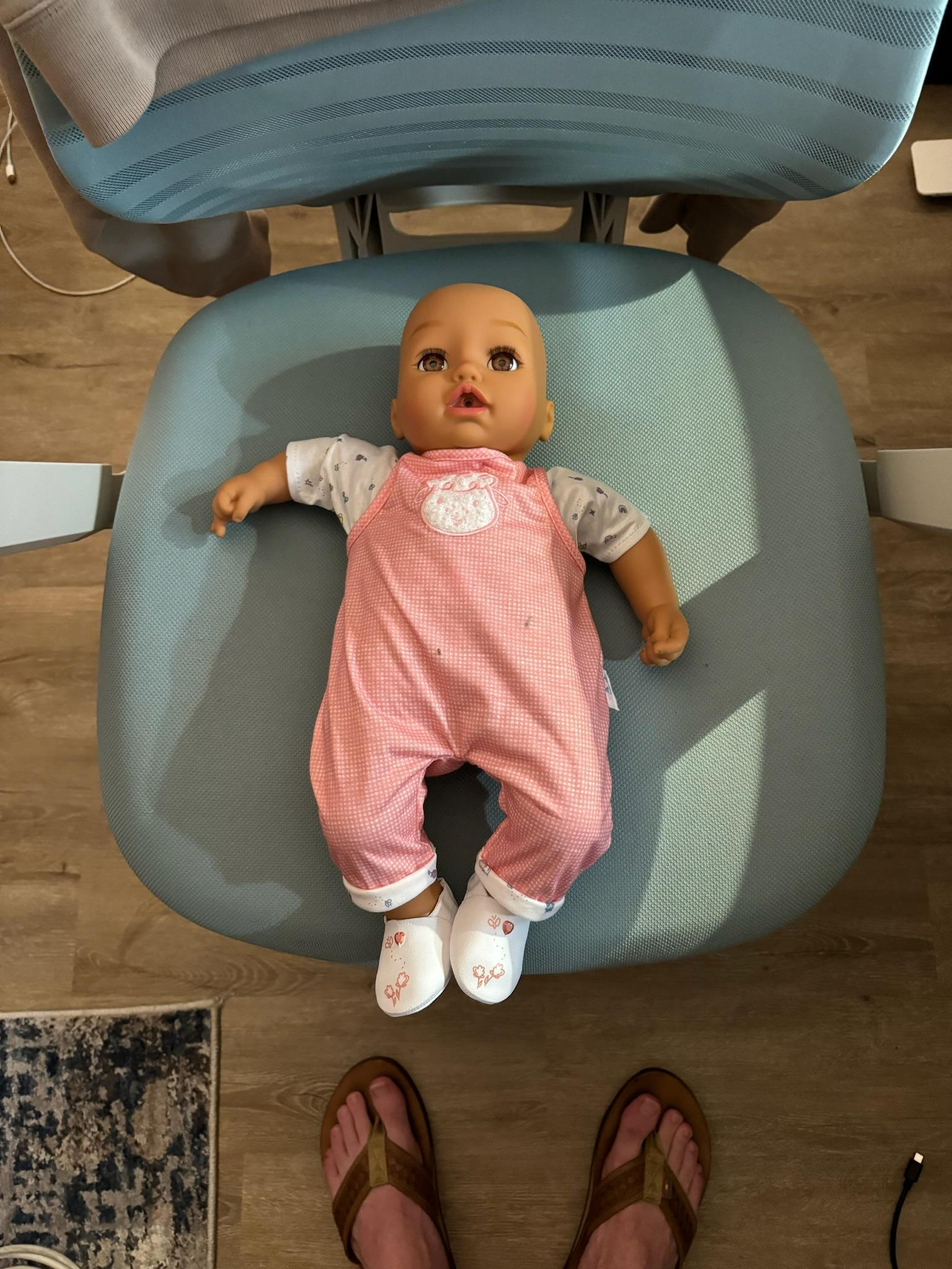baby: (202, 275, 692, 1027)
